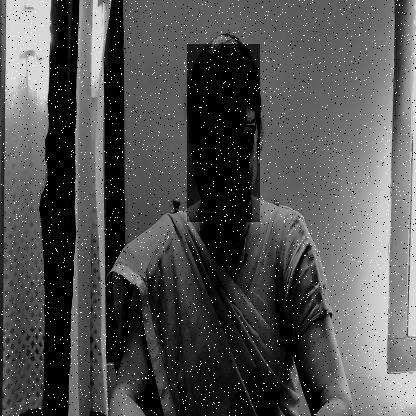Normal: (187, 44, 260, 222)
